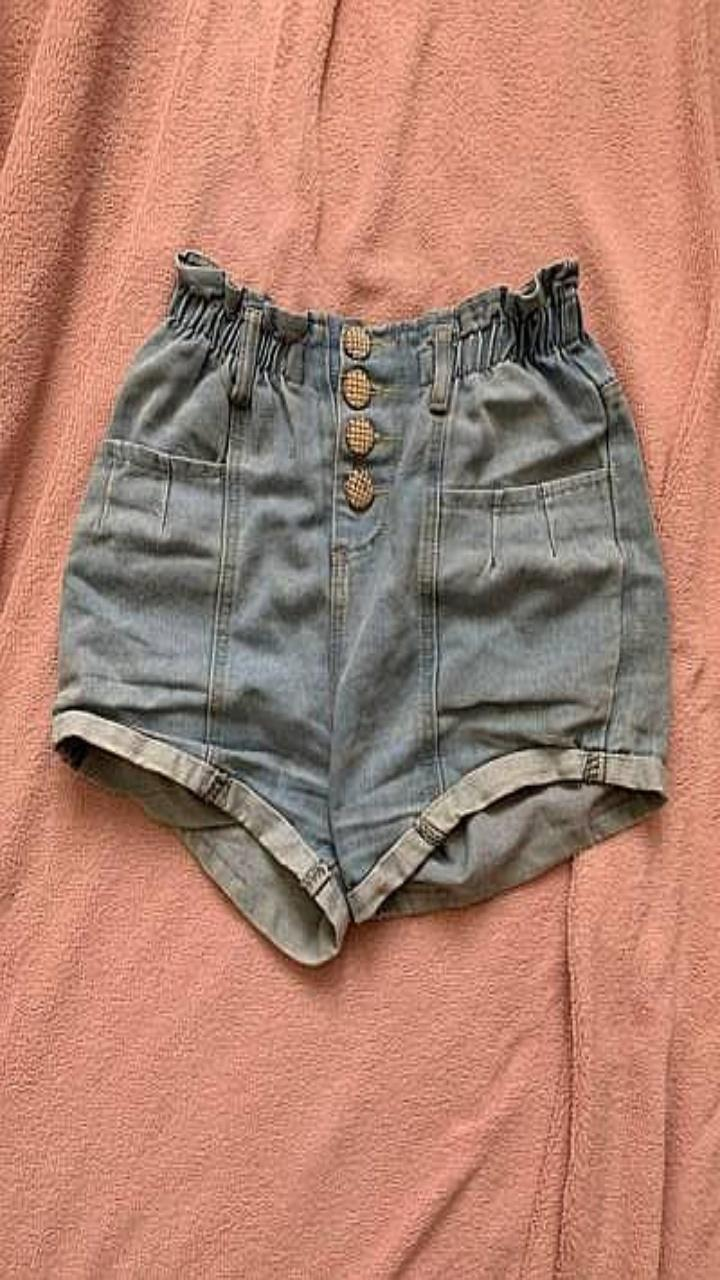Shorts: (52, 249, 669, 964)
